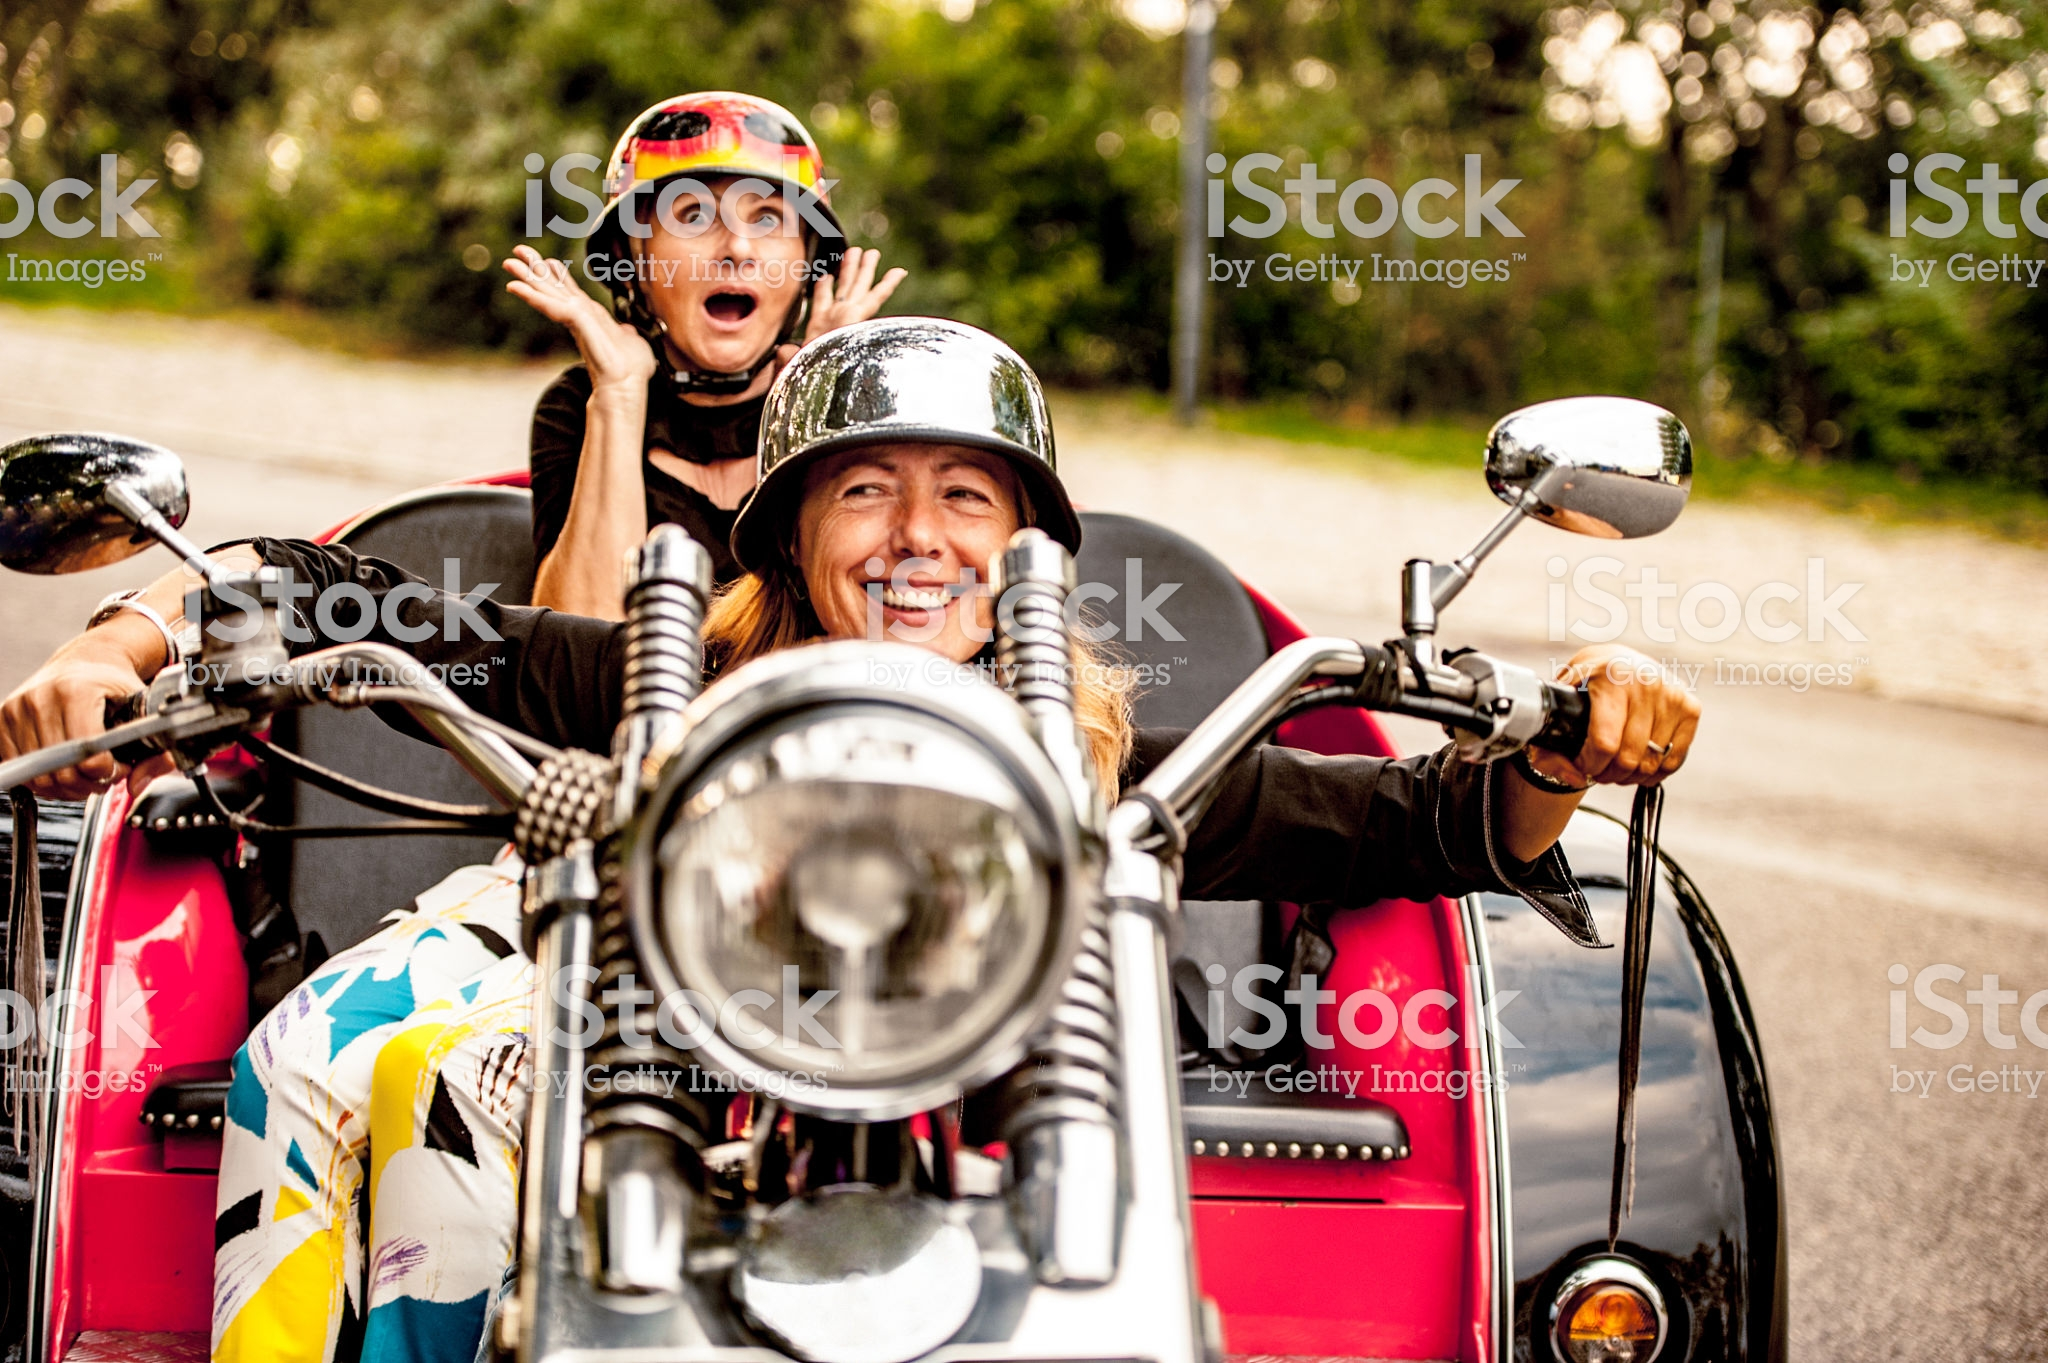helmet: (709, 339, 1111, 494), (581, 93, 876, 249)
